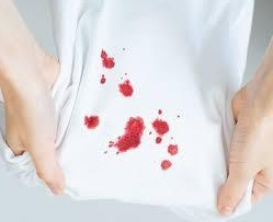blood: (117, 117, 144, 152), (153, 119, 170, 135), (101, 51, 115, 69), (120, 81, 134, 97), (86, 115, 98, 130), (161, 161, 172, 170), (169, 145, 179, 154), (155, 137, 164, 145), (101, 75, 106, 84)
